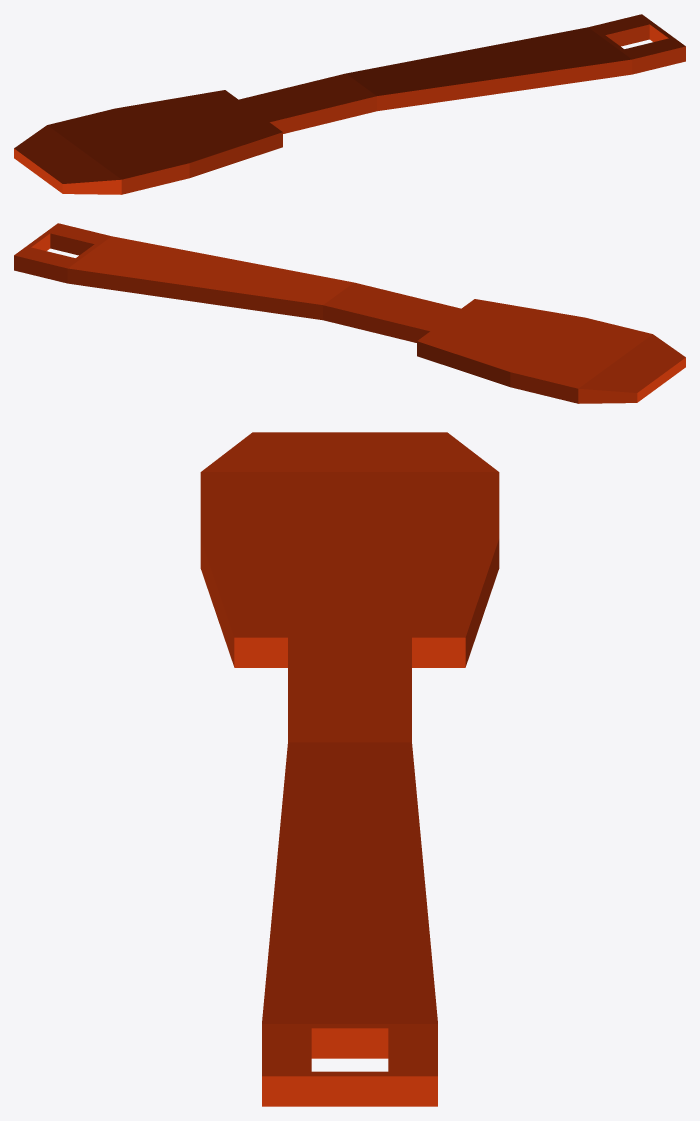
File: Spatula 1.fbx
3 views of the same model, one above another, from view 1: azimuth 30°, elevation 25°; view 2: azimuth 150°, elevation 25°; view 3: azimuth 270°, elevation 25° (orthographic). The views are drawn at different scales.
Visible parts, largest first — view 1: Node 0; view 2: Node 0; view 3: Node 0.
Part boxes in pixels (box(x1,y1,x2,y2)): Node 0: box(14, 14, 685, 194); Node 0: box(14, 223, 685, 403); Node 0: box(200, 432, 499, 1106).
Bounding box in the file's own units: 0.0891 × 0.0226 × 0.4314.
